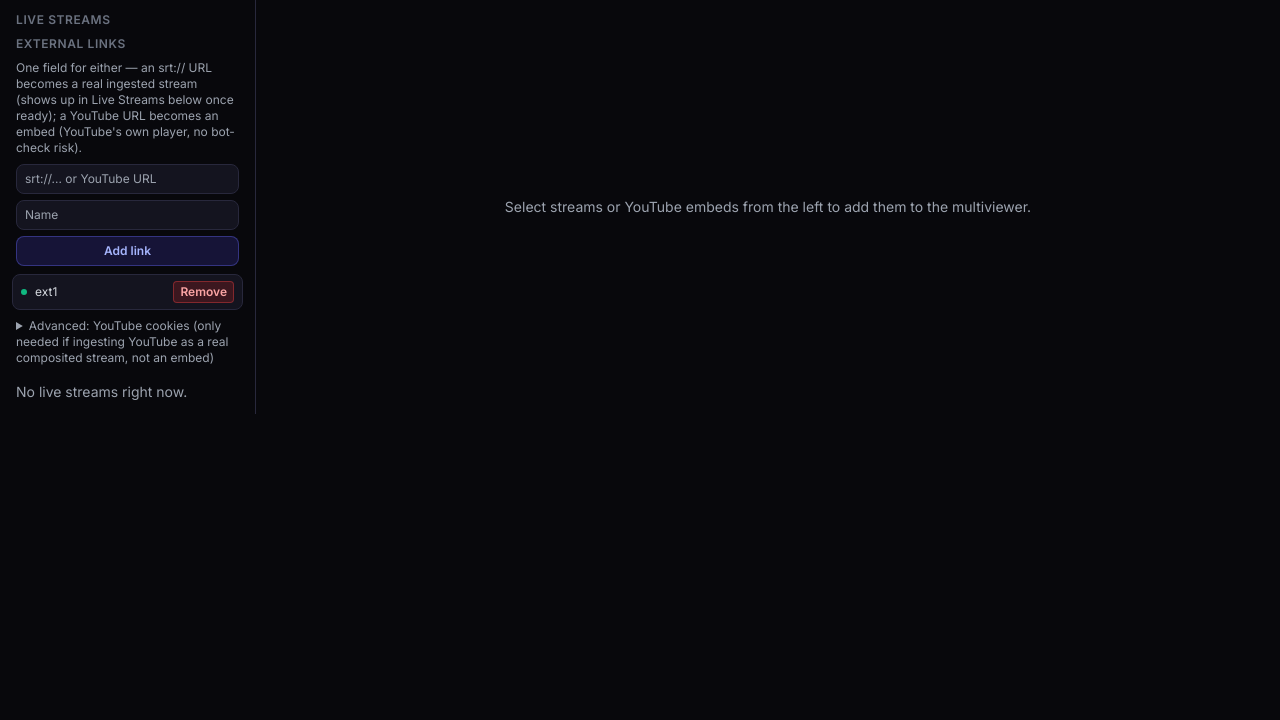
MultiviewerPage › shows an error toast when removing an external source fails
Click the button "Remove": (204, 292) [173,281,234,303]
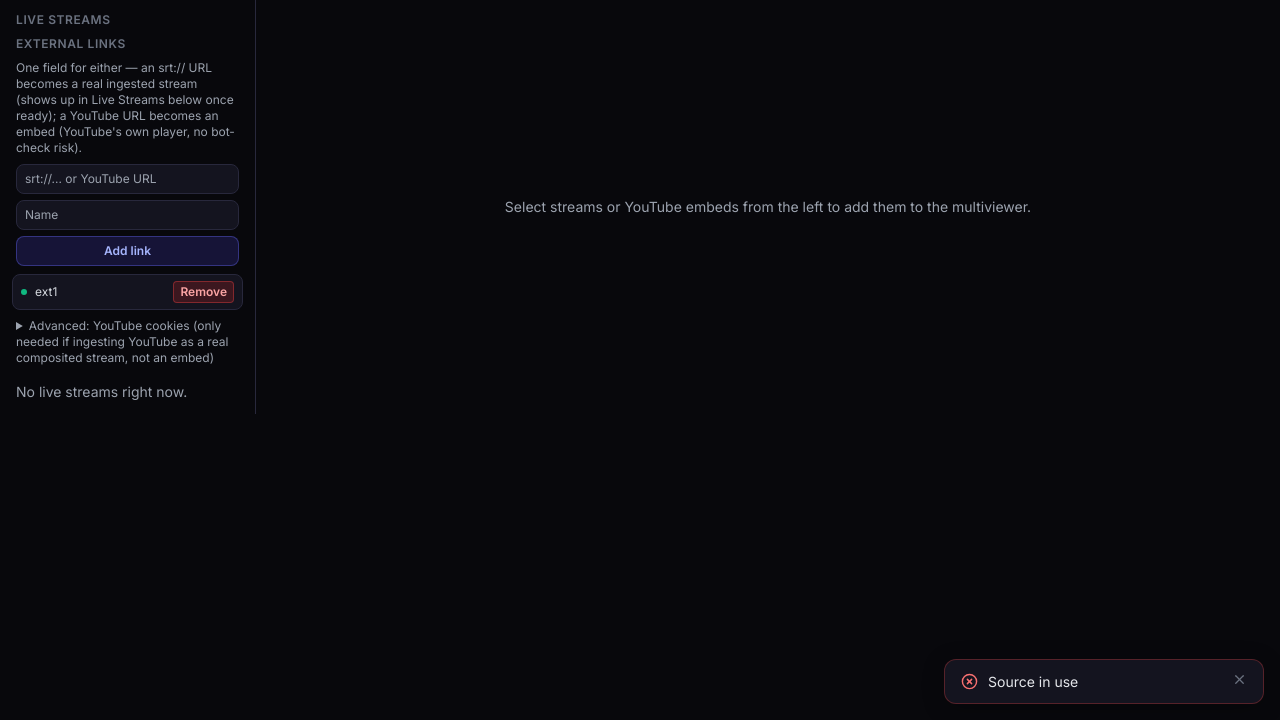
Expected: the text "Source in use" is shown, [988,673,1078,690]
